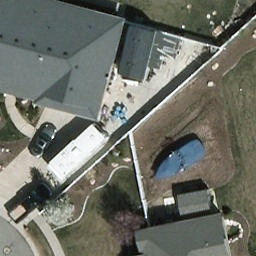boat: (146, 138, 208, 187)
camping car: (44, 123, 115, 187)
car: (27, 123, 59, 159)
pickup: (6, 184, 55, 226)
